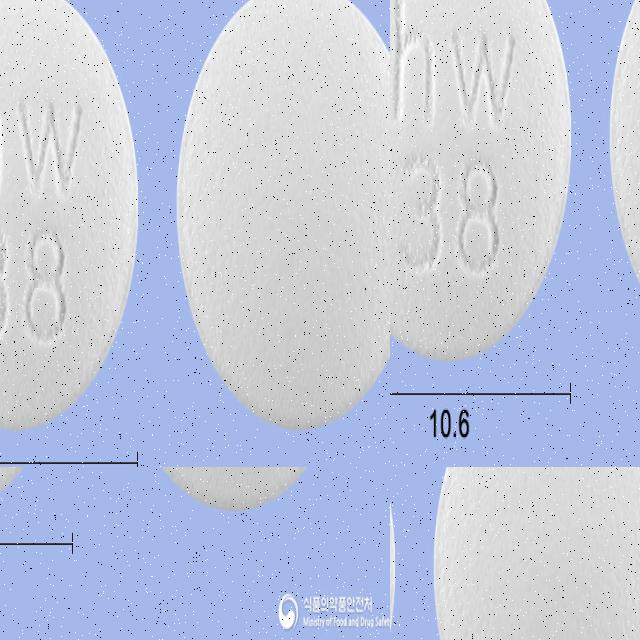Amocla Duo500mg: (390, 0, 640, 379)
Cirokan: (428, 467, 640, 640)
Clamycin: (163, 0, 390, 233), (0, 160, 188, 434)
Criacin: (0, 467, 156, 607)
